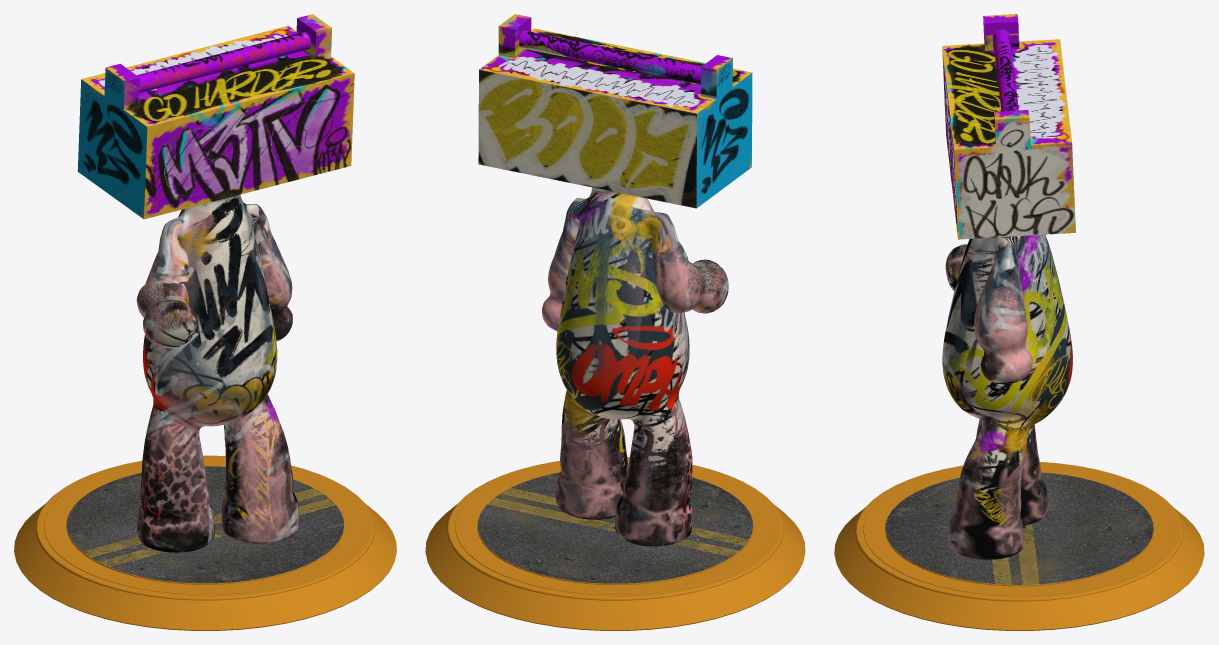
The model's file is 391_sanitized.glb.
3 renders of one model, left to right at view 1: azimuth 30°, elevation 25°; view 2: azimuth 150°, elevation 25°; view 3: azimuth 270°, elevation 25°, orthographic. The views are drawn at different scales.
Visible parts, largest first — view 1: BBody; view 2: BBody; view 3: BBody.
Part boxes in pixels (x1,y1,x2,y2): BBody: (14,14,396,630); BBody: (425,14,805,630); BBody: (834,14,1204,630).
Size of the model in its own units: 1.45 by 2.12 by 1.45.
Materials: 4 (3 with a texture image).
